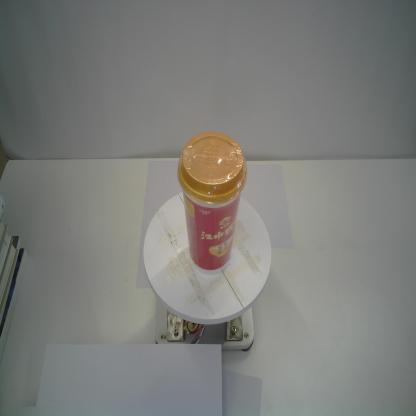Instant Drink: (176, 131, 248, 277)
